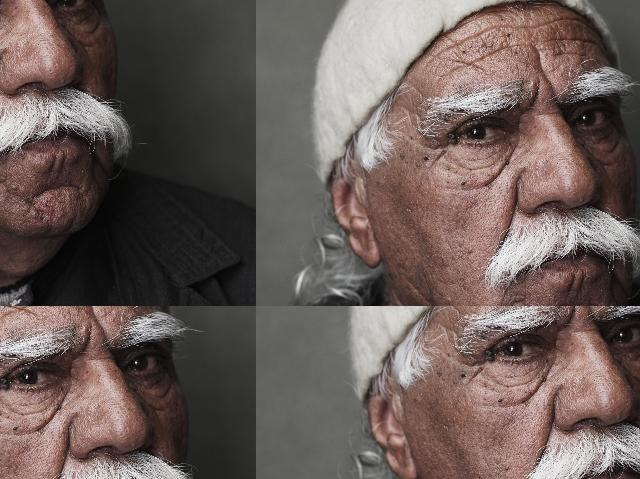crows_feet: (460, 351, 484, 383), (346, 38, 354, 52), (294, 42, 300, 50)
forehead: (330, 16, 350, 26), (298, 19, 312, 27)
frown_line: (569, 306, 591, 319), (320, 34, 324, 42)
gummy_smile: (537, 410, 559, 462), (331, 55, 342, 71), (304, 58, 314, 72)
masseter: (522, 376, 544, 406)
sad_smile: (340, 79, 346, 89)
